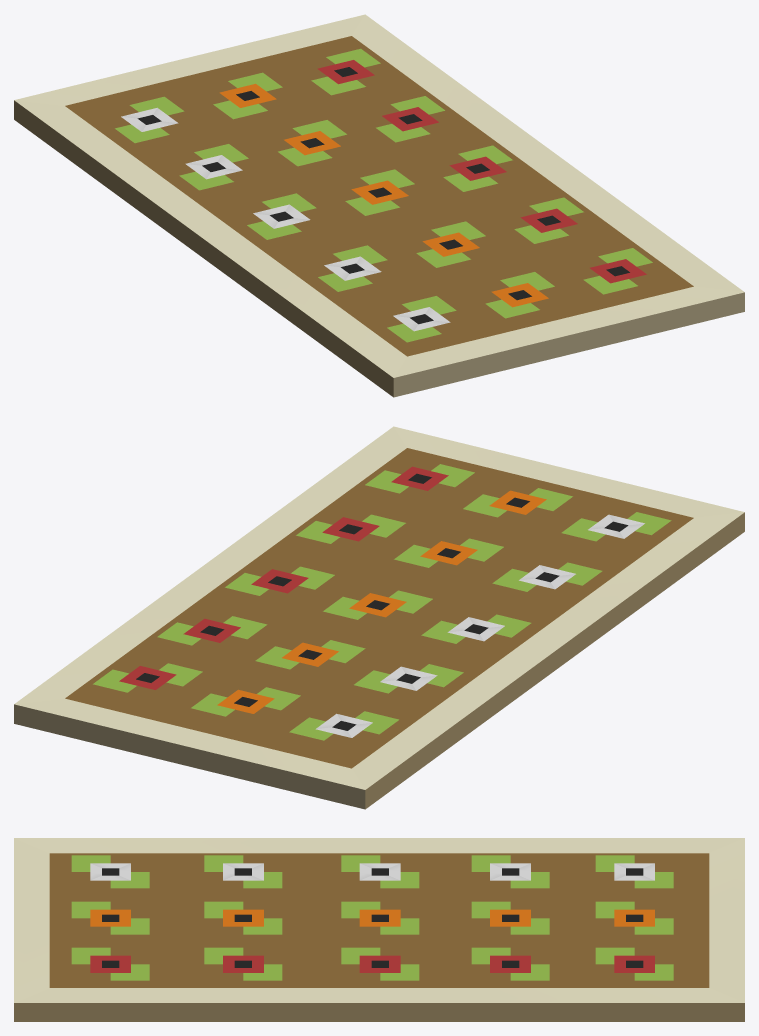
Rendered from SM_ParkPlanter_Square_01.fbx.
The picture shows the model from 3 angles, top to bottom: view 1: azimuth 30°, elevation 25°; view 2: azimuth 150°, elevation 25°; view 3: azimuth 270°, elevation 25°; orthographic projection. The views are drawn at different scales.
Visible parts, largest first — view 1: SM_ParkPlanter_Square_01; view 2: SM_ParkPlanter_Square_01; view 3: SM_ParkPlanter_Square_01.
Boxes of the visible parts, bbox=[...] form: SM_ParkPlanter_Square_01: bbox=[14, 14, 744, 397]; SM_ParkPlanter_Square_01: bbox=[14, 426, 744, 809]; SM_ParkPlanter_Square_01: bbox=[14, 838, 744, 1021].
Bounding box in the file's own units: 2.35 × 0.1441 × 4.4.
